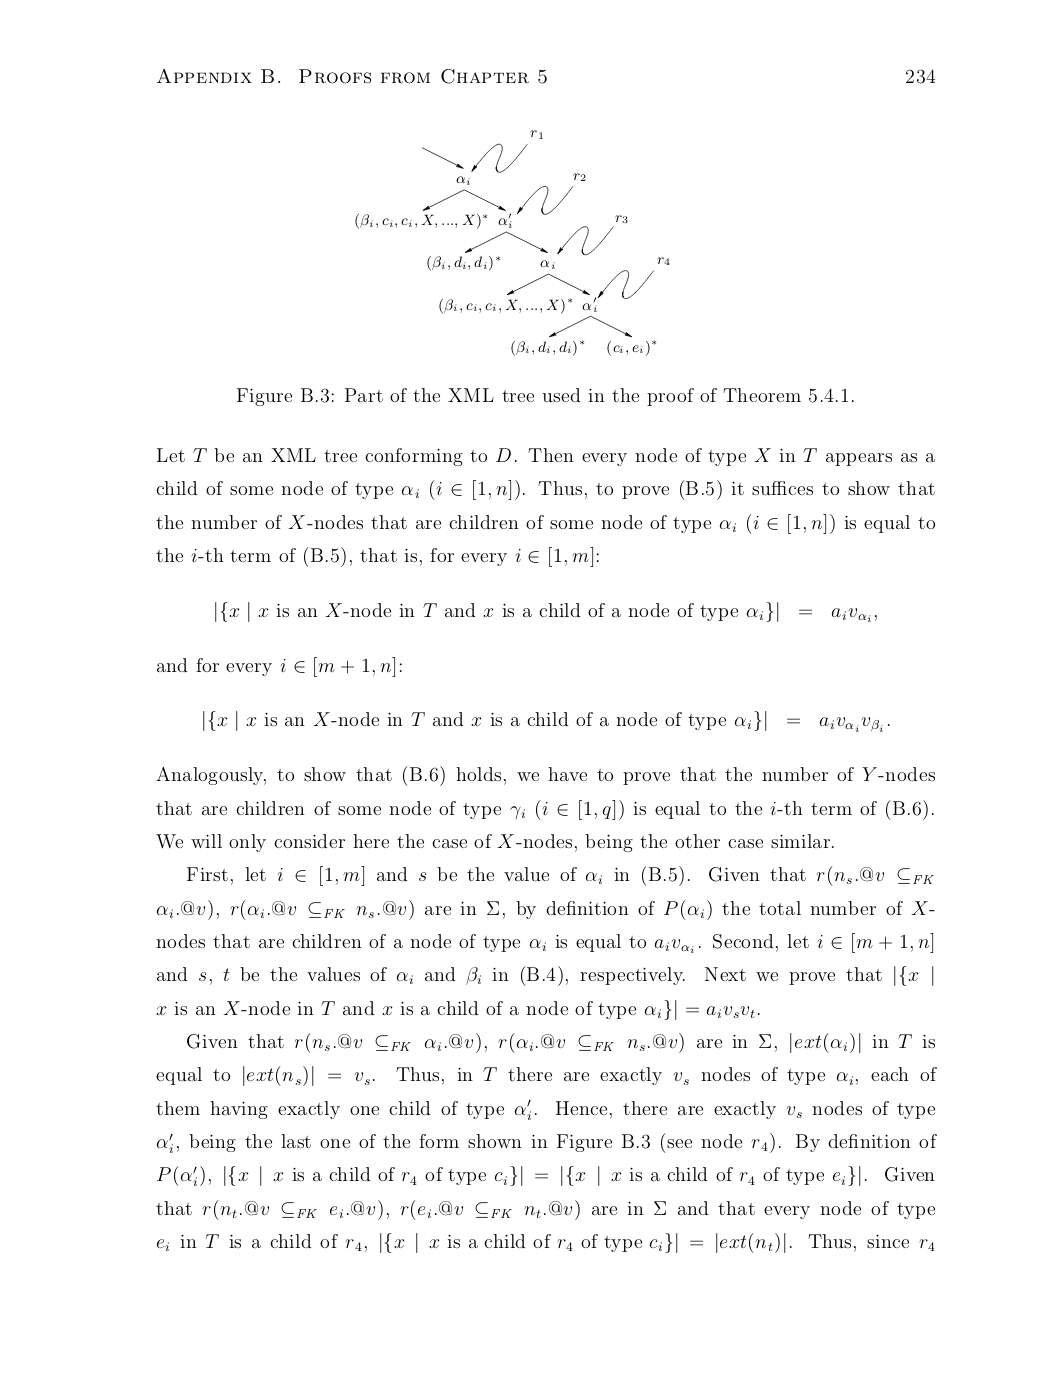figure: (356, 130, 669, 356)
formula: (203, 710, 889, 732), (215, 601, 876, 622)
